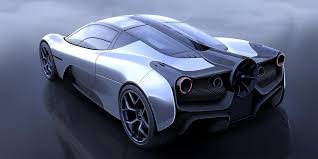car: (25, 10, 299, 148)
